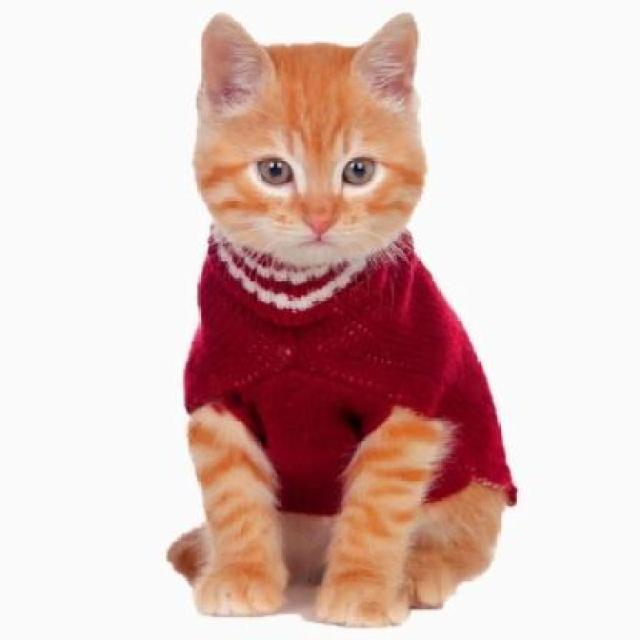cat: (156, 3, 533, 626)
